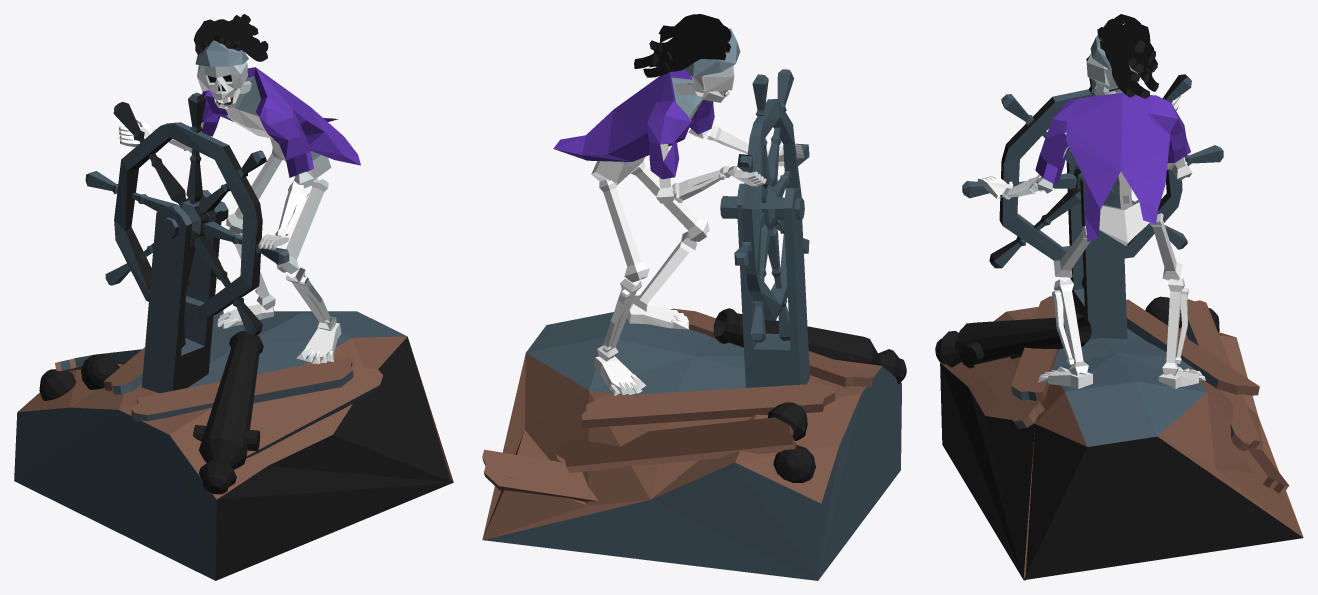
The model's file is scene_PNlrY0F4pW.glb.
The picture shows the model from 3 angles, left to right: view 1: azimuth 30°, elevation 25°; view 2: azimuth 150°, elevation 25°; view 3: azimuth 270°, elevation 25°; orthographic projection. The views are drawn at different scales.
Visible parts, largest first — view 1: Node; view 2: Node; view 3: Node.
Part boxes in pixels (x1=…): Node: x1=14, y1=14, x2=453, y2=580; Node: x1=482, y1=14, x2=906, y2=580; Node: x1=935, y1=14, x2=1303, y2=580.
Bounding box in the file's own units: 2.96 × 3.92 × 2.78.
